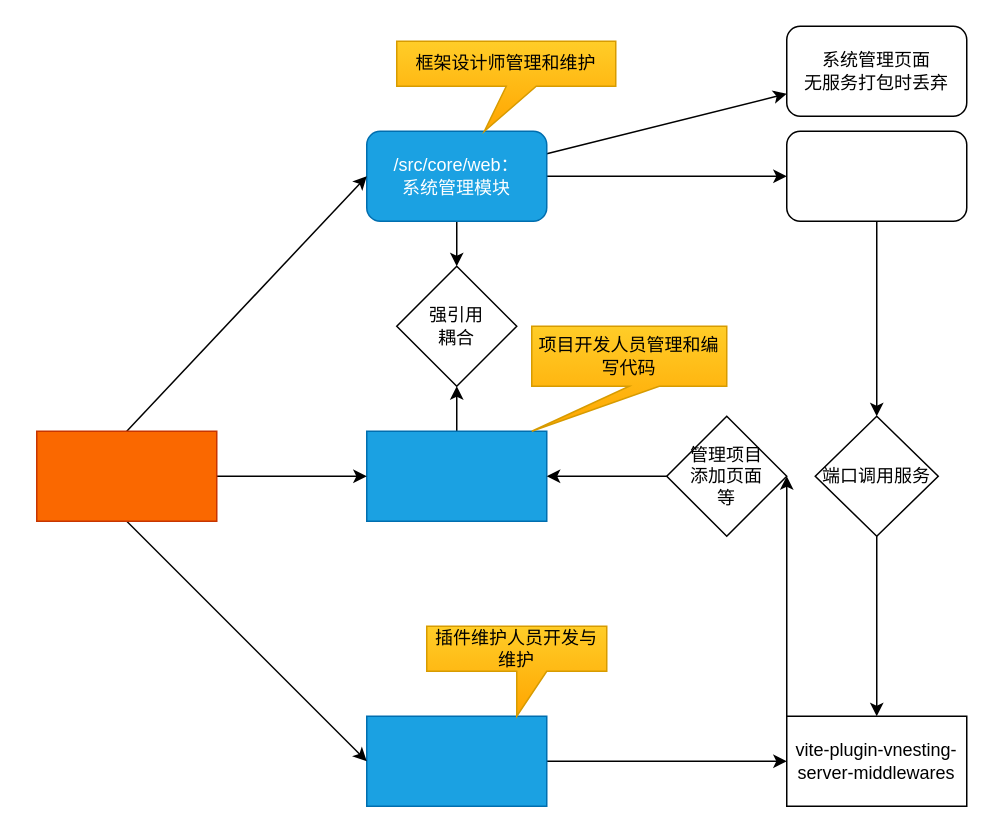
The diagram is 993 pixels wide and 833 high, and some of its shapes have lost their labels. Here are the shapes that lost their labels. From the top down, the centre of each, then its label:
At (876,175): "devView： 开发运行时页面 打包时丢弃".
At (126,475): "vite vue devServer build tools eslint prettierrc".
At (456,475): "/src！/src/core： 用户项目模块".
At (456,760): "/src/core/plugin： 独立的vite开发插件".
